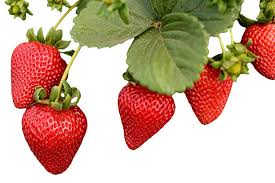ripe: (18, 95, 87, 178), (115, 78, 177, 155), (184, 48, 237, 132), (8, 41, 64, 110), (239, 16, 273, 86)
